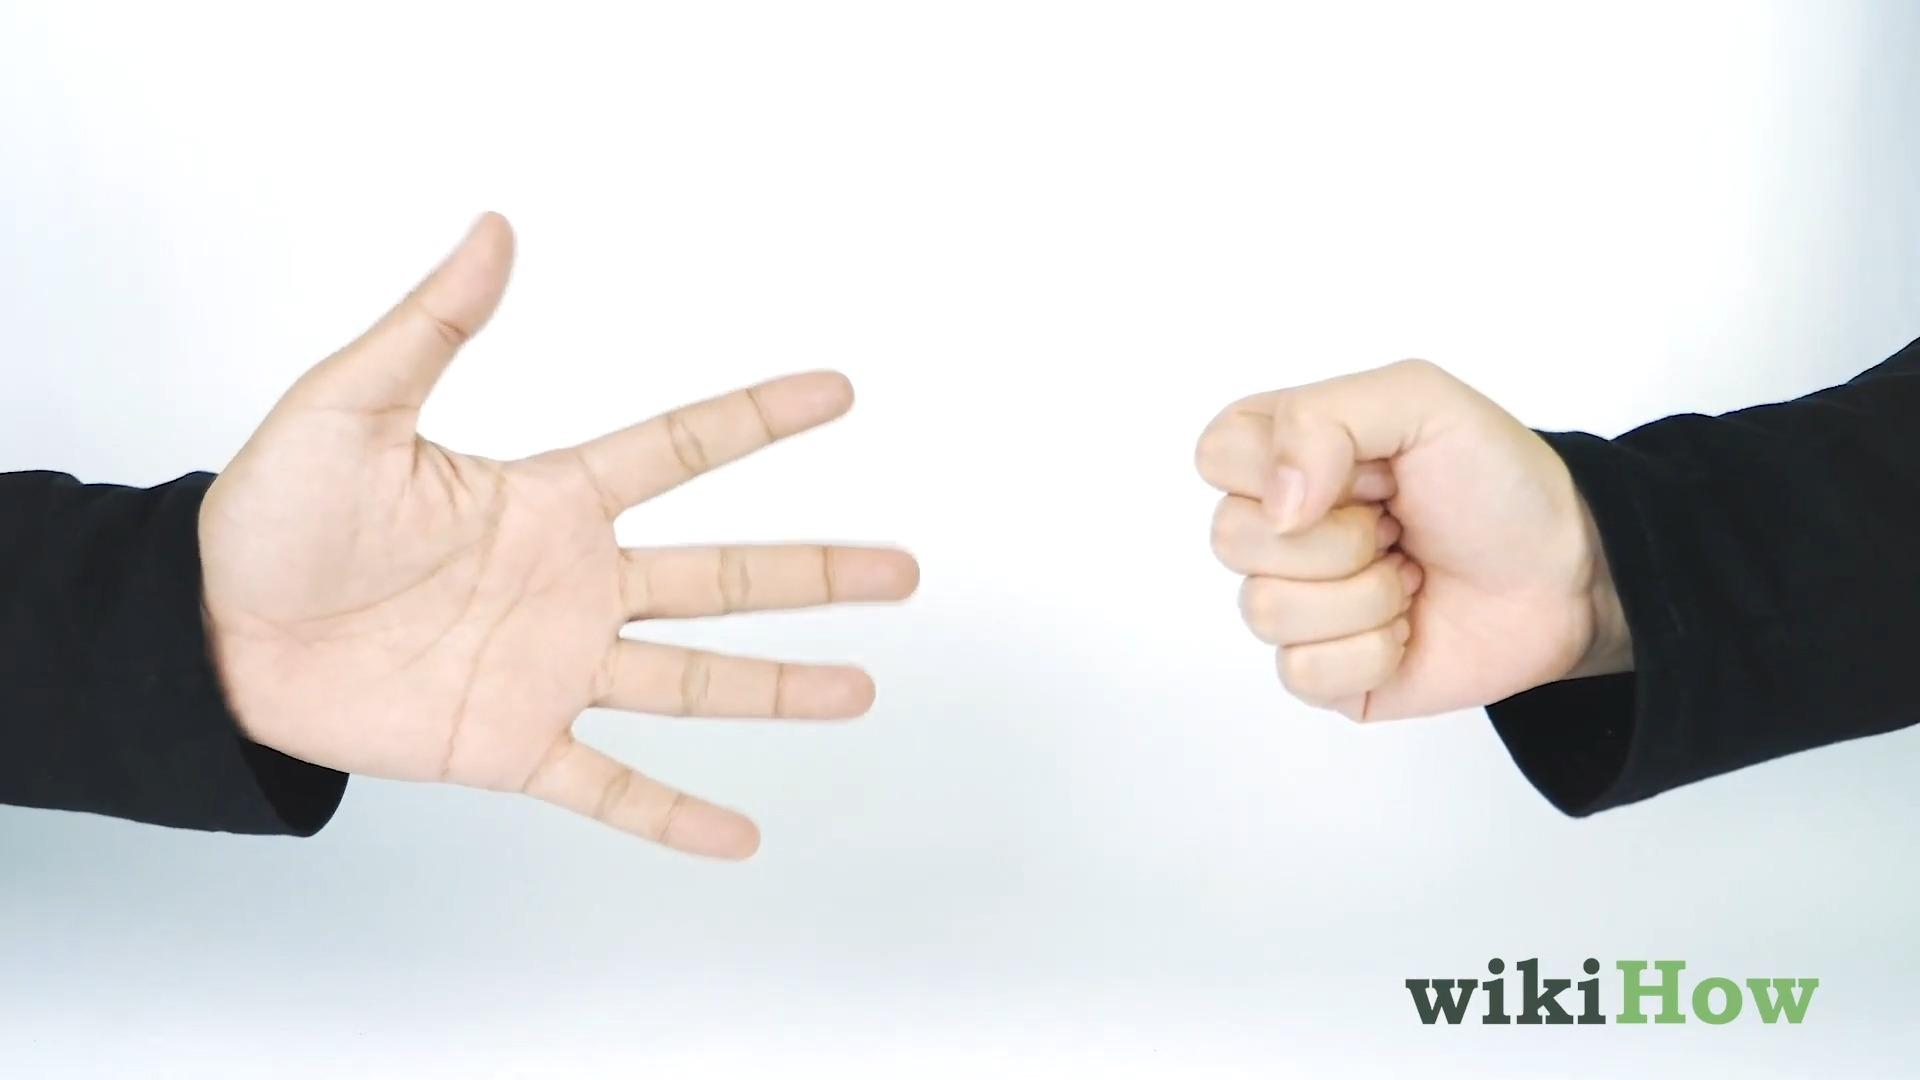Paper: (194, 206, 931, 870)
Rock: (1188, 357, 1597, 733)
